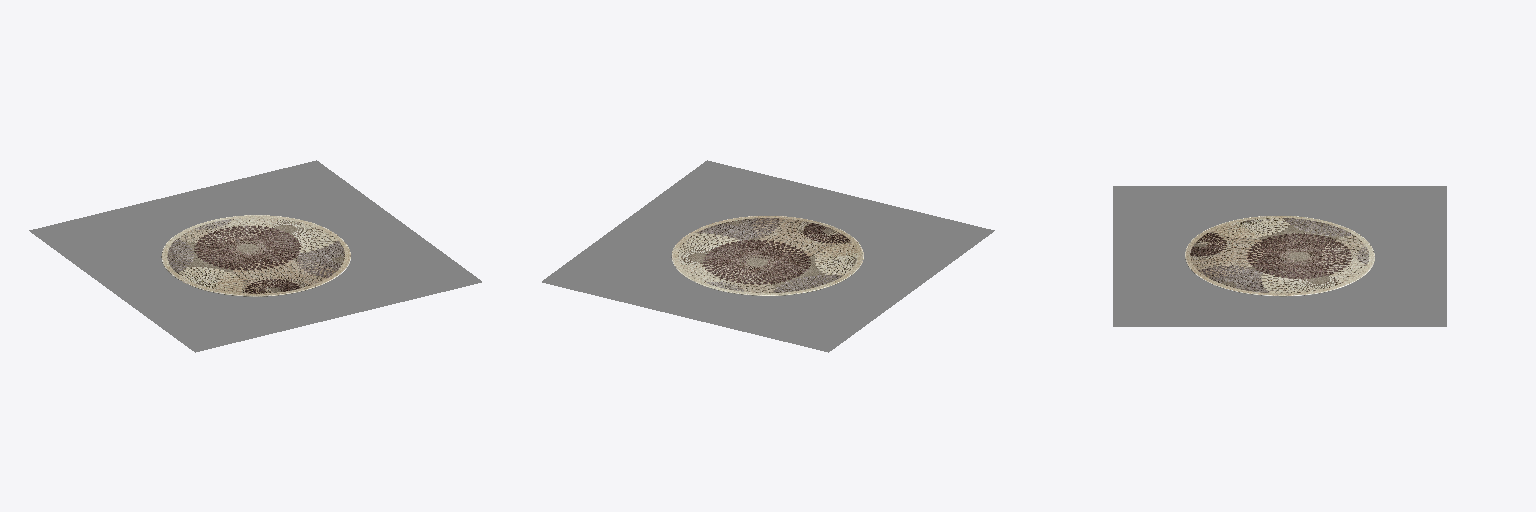
3 renders of one model, left to right at view 1: azimuth 30°, elevation 25°; view 2: azimuth 150°, elevation 25°; view 3: azimuth 270°, elevation 25°, orthographic.
Visible parts, largest first — view 1: shadow_plane_v6, not_clear_obj_0_v6; view 2: shadow_plane_v6, not_clear_obj_0_v6; view 3: shadow_plane_v6, not_clear_obj_0_v6.
Part boxes in pixels (bbox=[...]): shadow_plane_v6: bbox=[29, 160, 481, 352]; not_clear_obj_0_v6: bbox=[161, 215, 350, 296]; shadow_plane_v6: bbox=[542, 160, 994, 352]; not_clear_obj_0_v6: bbox=[671, 216, 863, 295]; shadow_plane_v6: bbox=[1113, 186, 1446, 326]; not_clear_obj_0_v6: bbox=[1185, 216, 1374, 296].
Size of the model in its own units: 408 by 1.27 by 408.
2 materials, 1 textured.